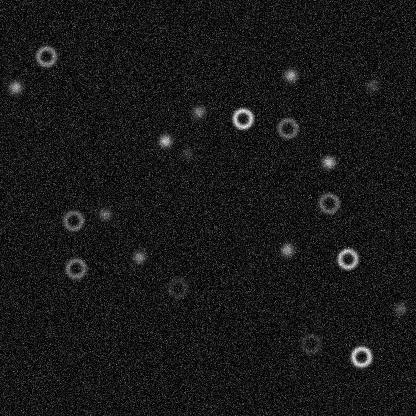Ring: (316, 191, 340, 215), (298, 331, 322, 355), (61, 208, 85, 232), (335, 246, 359, 270), (275, 116, 299, 140), (34, 44, 58, 68), (230, 106, 254, 130), (63, 256, 87, 280), (349, 344, 373, 368), (165, 275, 189, 299)
Spot: (279, 241, 295, 257), (7, 79, 23, 95), (190, 103, 206, 119), (157, 132, 173, 148), (131, 249, 147, 265), (320, 154, 336, 170), (364, 77, 380, 93), (282, 67, 298, 83), (179, 145, 195, 161), (392, 300, 408, 316), (96, 206, 112, 222)
